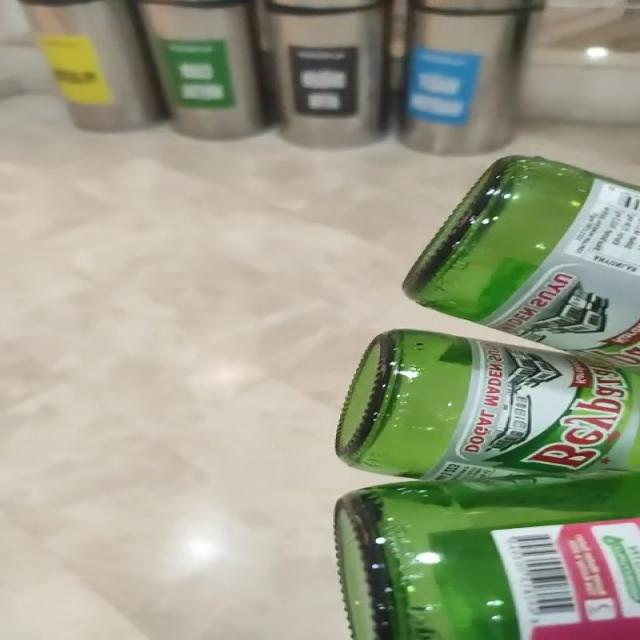glass: (336, 156, 640, 640)
